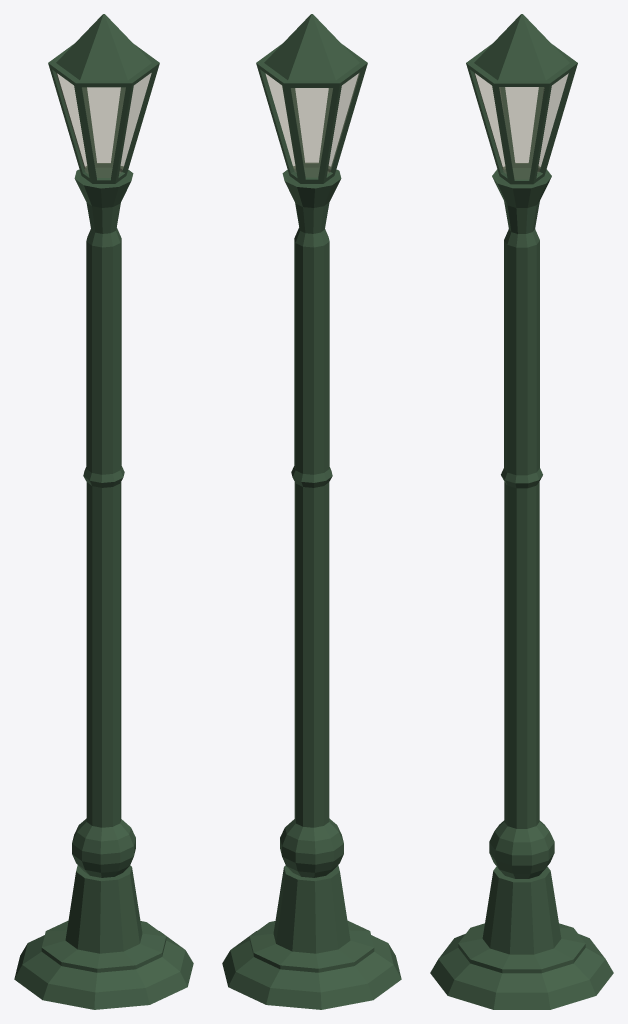
Rendered from faro.dae.
The picture shows the model from 3 angles, left to right: view 1: azimuth 30°, elevation 25°; view 2: azimuth 150°, elevation 25°; view 3: azimuth 270°, elevation 25°; orthographic projection.
Visible parts, largest first — view 1: Cylinder, Cylinder_001; view 2: Cylinder, Cylinder_001; view 3: Cylinder, Cylinder_001.
Part boxes in pixels (box(x1,y1,x2,y2)): Cylinder: box(14, 166, 193, 1009); Cylinder_001: box(48, 14, 159, 183); Cylinder: box(222, 166, 401, 1009); Cylinder_001: box(256, 14, 367, 183); Cylinder: box(430, 166, 613, 1009); Cylinder_001: box(466, 14, 577, 184).
Bounding box in the file's own units: 1.9 × 2 × 11.51.
